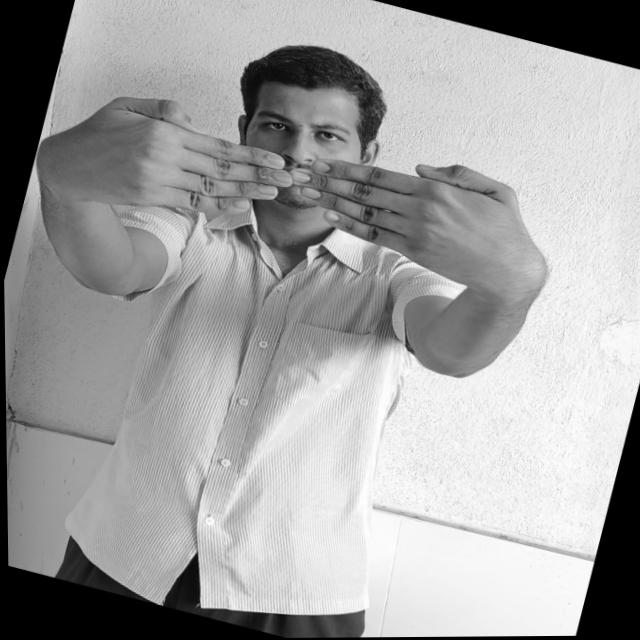Night: (36, 68, 529, 314)
